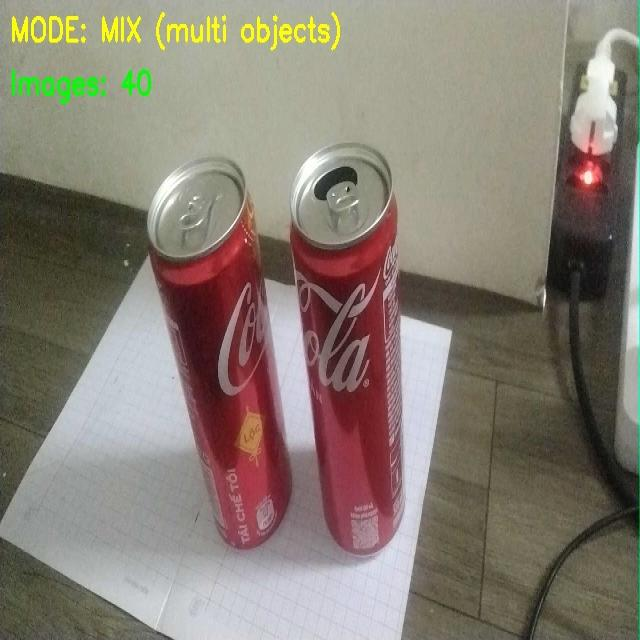Coca: (144, 156, 287, 599)
Coca_open: (286, 155, 460, 601)
